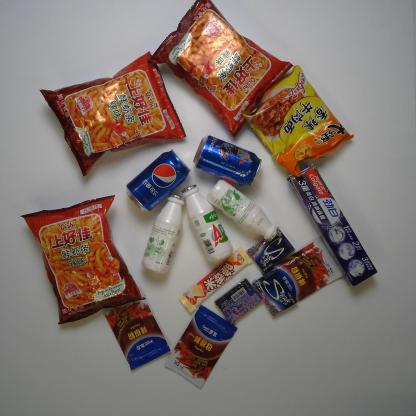Chocolate: (178, 246, 253, 314)
Drink: (125, 149, 191, 212), (193, 135, 262, 186)
Gum: (246, 226, 295, 276), (214, 277, 263, 325), (252, 268, 297, 317)
Instant Noodles: (241, 65, 354, 178)
Milk: (206, 179, 279, 242), (181, 184, 234, 263), (140, 193, 186, 274)
Personal Hygiene: (287, 164, 378, 288)
Puffed Food: (147, 0, 294, 138), (38, 50, 186, 177), (20, 195, 146, 325)
Seasoner: (164, 304, 238, 389), (101, 298, 171, 370), (275, 239, 343, 302)
